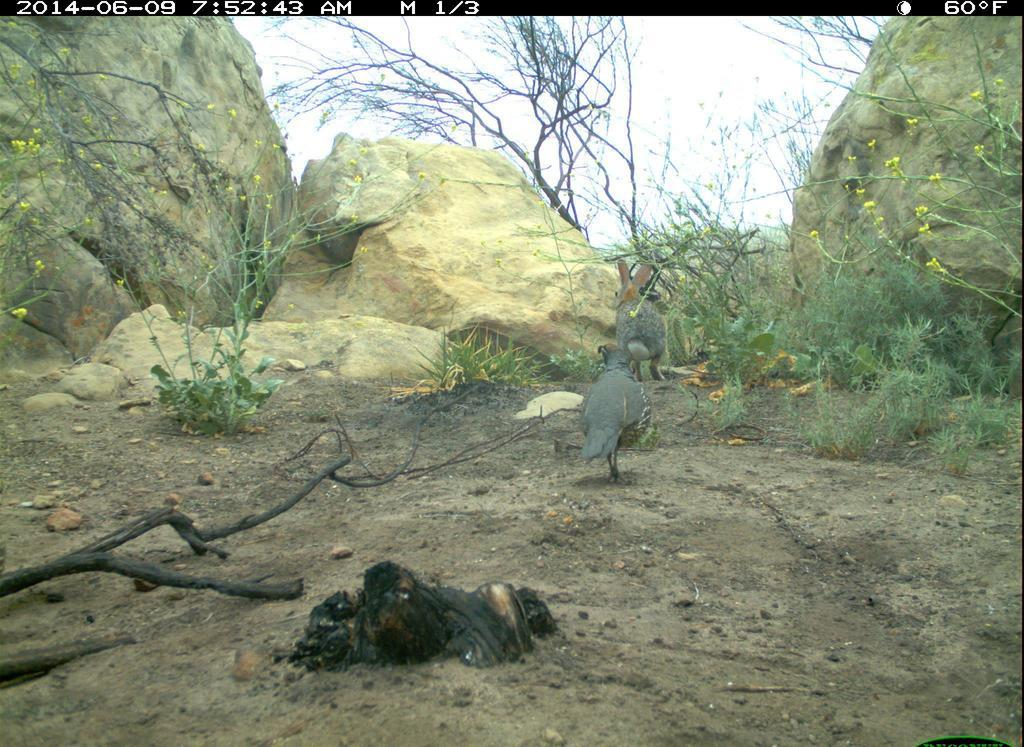rabbit: (607, 251, 674, 387)
